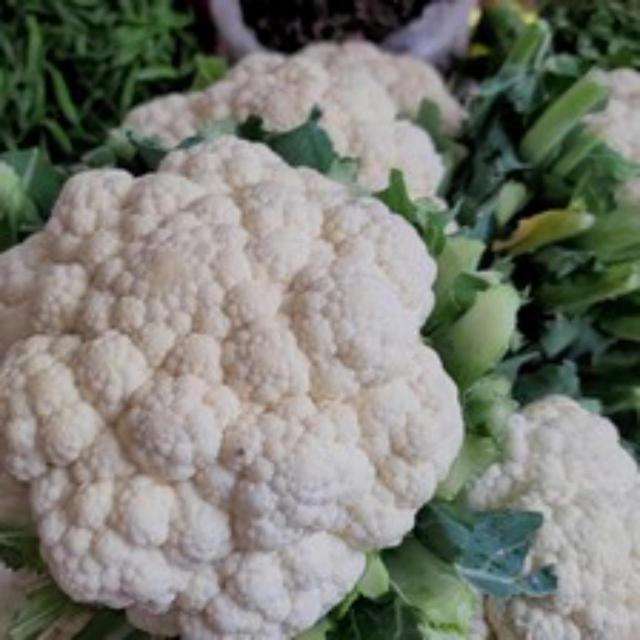cauliflower: (0, 140, 497, 637)
